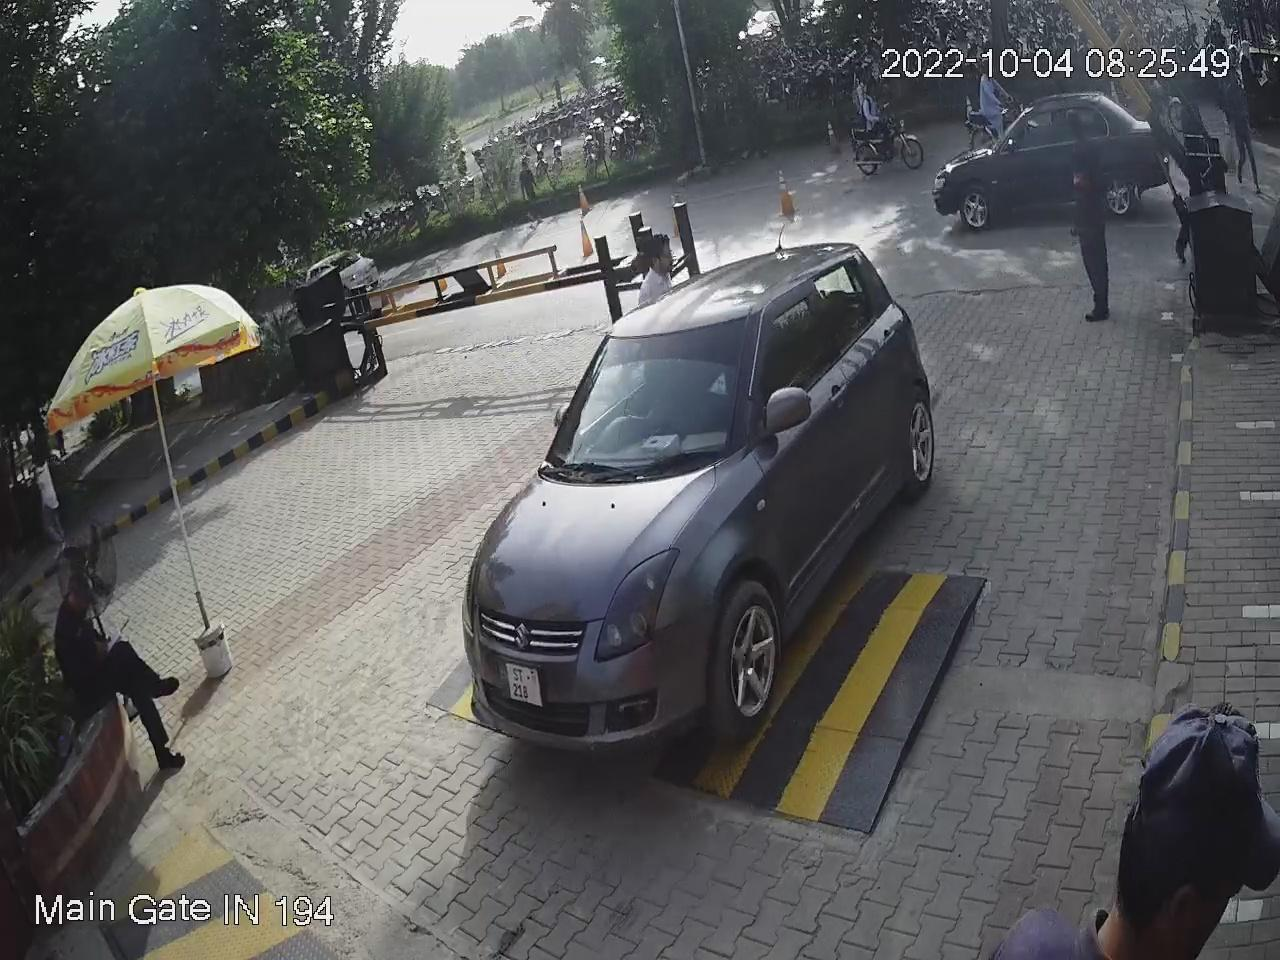windshield: (543, 305, 756, 473)
